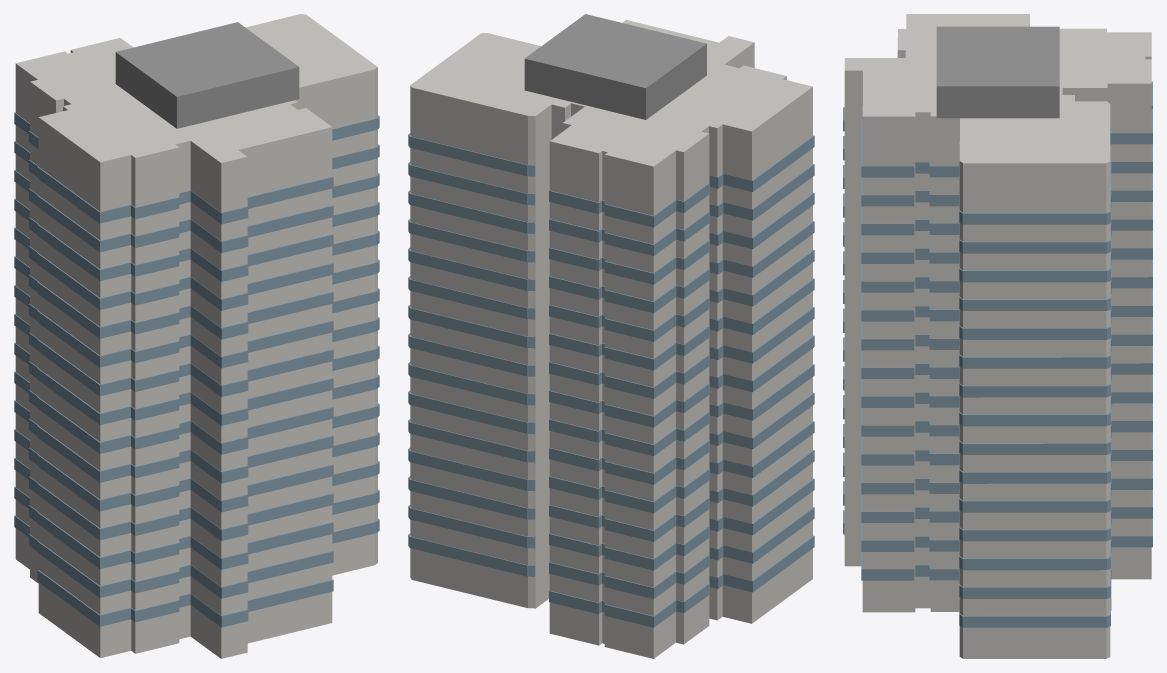
File: landmark-loerrach-rathaus.17049e4ea8.glb
The picture shows the model from 3 angles, left to right: view 1: azimuth 30°, elevation 25°; view 2: azimuth 150°, elevation 25°; view 3: azimuth 270°, elevation 25°; orthographic projection.
Parts seen in each view (by area): view 1: building; view 2: building; view 3: building.
Part boxes in pixels (box(x1,y1,x2,y2)): building: box(14, 14, 379, 658); building: box(408, 14, 814, 658); building: box(843, 14, 1152, 658).
Size of the model in its own units: 40.38 by 66 by 35.13.
